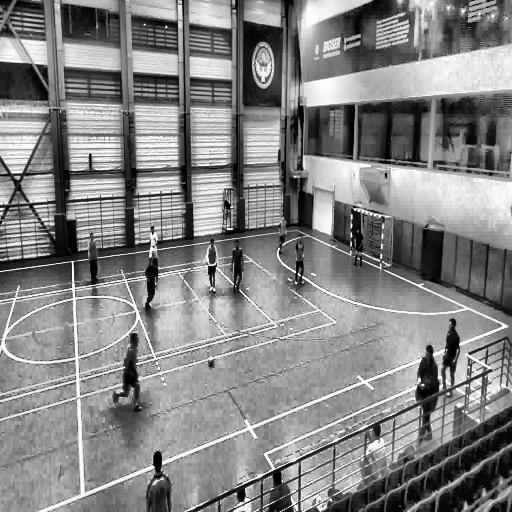ball: (208, 356, 214, 366)
player: (112, 328, 143, 410), (414, 342, 438, 444), (441, 320, 460, 397), (145, 255, 158, 311), (231, 239, 244, 293), (207, 238, 218, 294), (87, 231, 99, 282), (352, 225, 362, 266), (148, 226, 158, 266), (278, 214, 286, 255)
